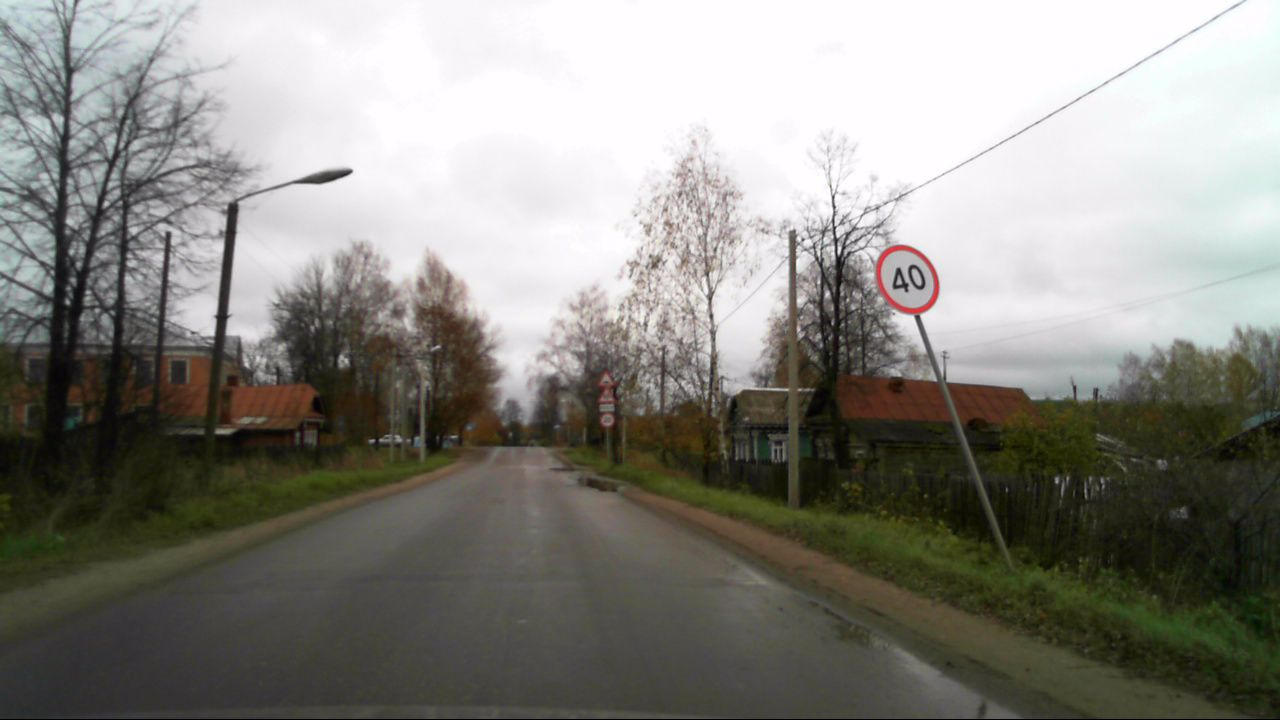speed_warning_40: (873, 244, 941, 315)
